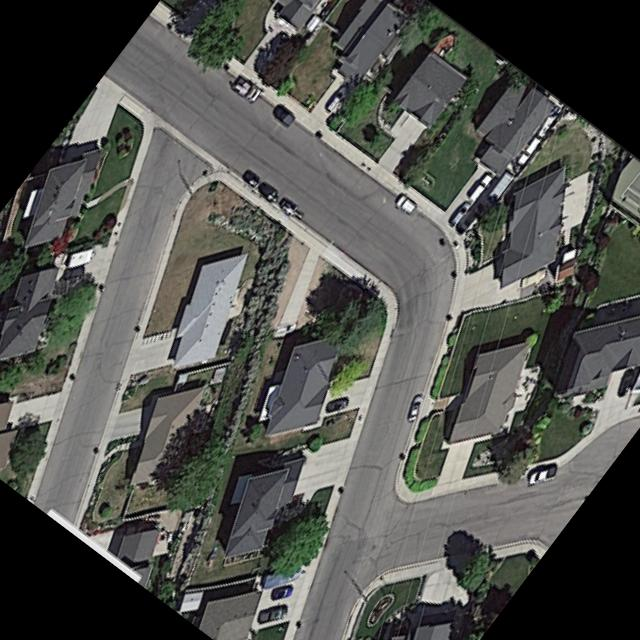crack: (349, 455, 401, 530), (381, 523, 452, 551), (64, 385, 111, 416), (404, 277, 451, 306), (309, 579, 329, 640), (188, 94, 218, 134), (84, 351, 120, 384), (368, 539, 390, 584), (260, 128, 295, 156), (398, 264, 429, 292), (376, 375, 428, 390), (137, 183, 168, 198), (107, 273, 152, 283)
road: (105, 20, 640, 640), (38, 129, 205, 518)
